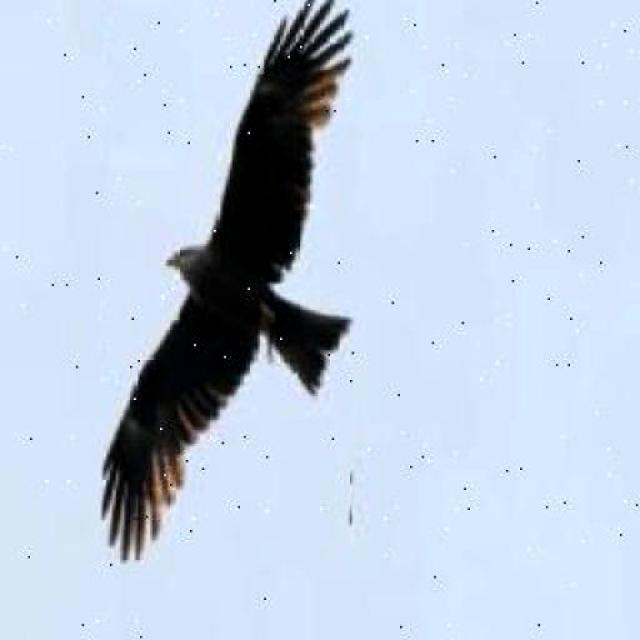airplane: (100, 0, 358, 566)
